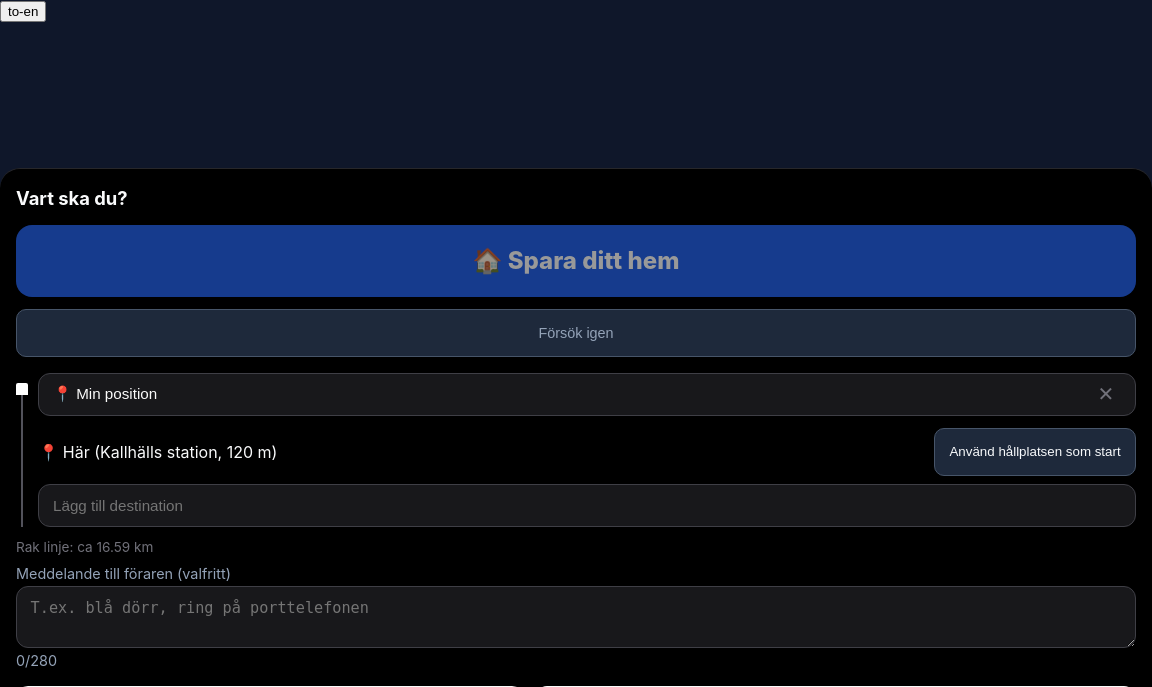
Test case: BookingPage places › stop without area: "<name> (hållplats)"
Click the button "Använd hållplatsen som start": (1035, 452) [934,428,1136,476]
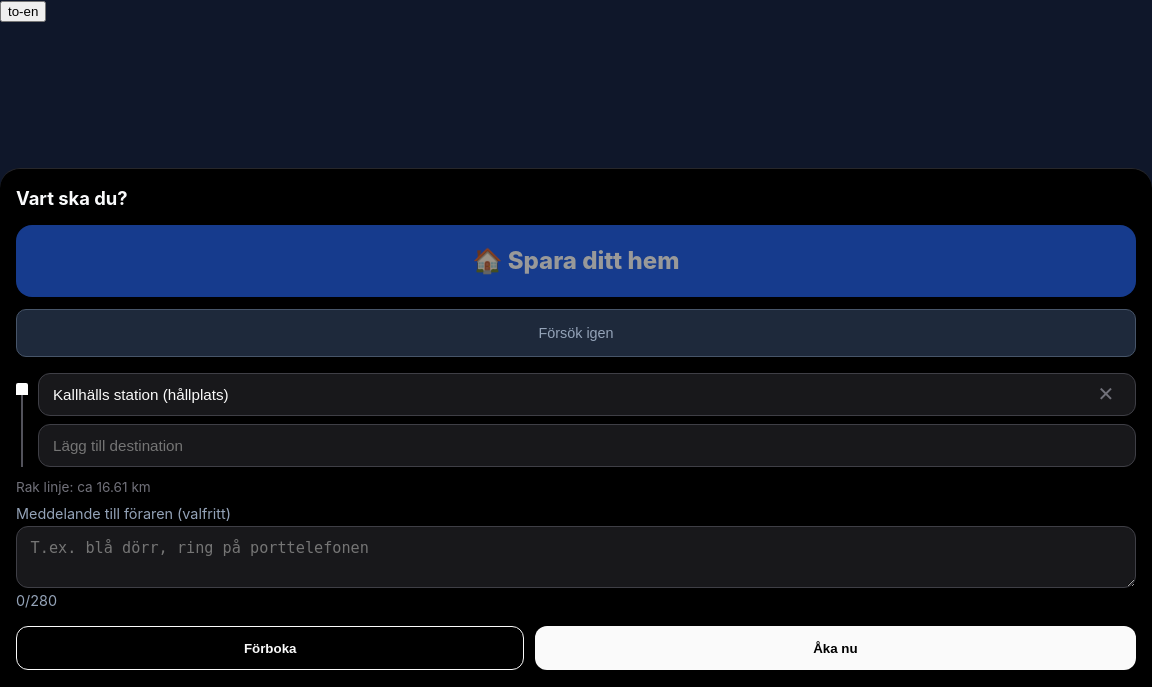
Expected: the dropdown named "Startadress" holds "Kallhälls station (hållplats)", [38,373,1136,416]
